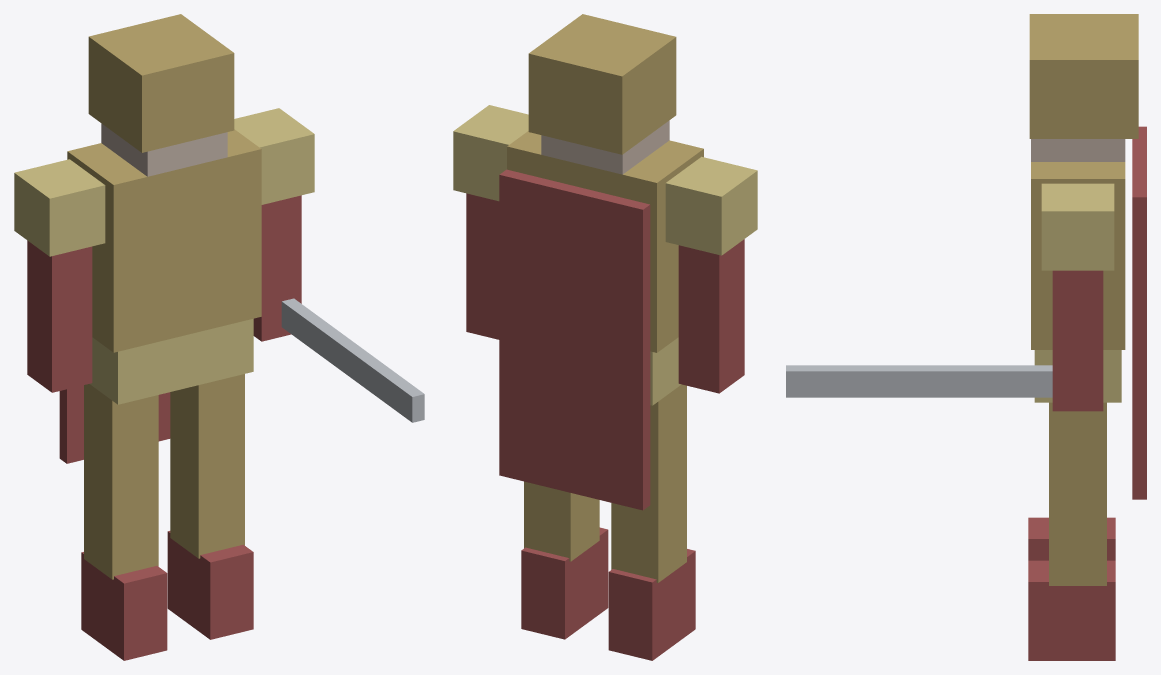
File: colosseum_captain.glb
The picture shows the model from 3 angles, left to right: view 1: azimuth 30°, elevation 25°; view 2: azimuth 150°, elevation 25°; view 3: azimuth 270°, elevation 25°; orthographic projection.
Parts seen in each view (by area): view 1: colosseum_captain; view 2: colosseum_captain; view 3: colosseum_captain.
Part boxes in pixels (box(x1,y1,x2,y2)): colosseum_captain: box(14, 14, 424, 660); colosseum_captain: box(453, 14, 757, 660); colosseum_captain: box(786, 14, 1146, 660).
Bounding box in the file's own units: 1.03 × 2.16 × 1.19.
